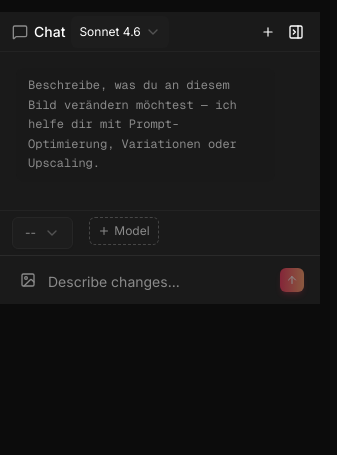
Test: CanvasChatPanel (Backend-Integration) › AC-8: should show error bot message on SSE timeout after 60 seconds
The image size is (337, 455).
Type "test timeout" into the text box with test id "chat-input-textarea" at (160, 282), box left=48, top=272, right=272, bottom=292
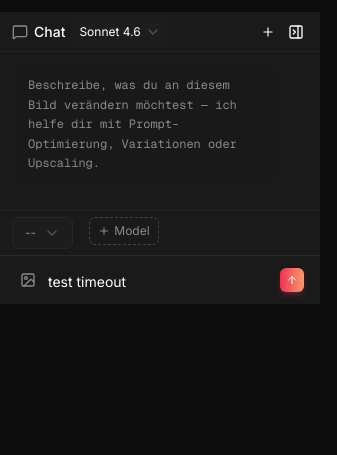
Click the button with test id "send-btn" at (292, 280), box left=280, top=268, right=304, bottom=292
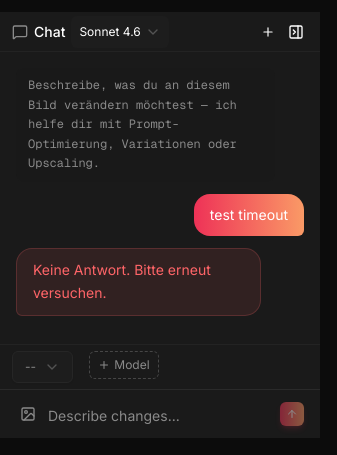
Expected: the text box with test id "chat-input-textarea" is enabled, left=48, top=406, right=272, bottom=426
Expected: the element with test id "bot-message-error" is shown, left=16, top=248, right=261, bottom=316
Expected: the element with test id "bot-message-error" reads "Keine Antwort. Bitte erneut versuchen.", left=33, top=261, right=215, bottom=301
